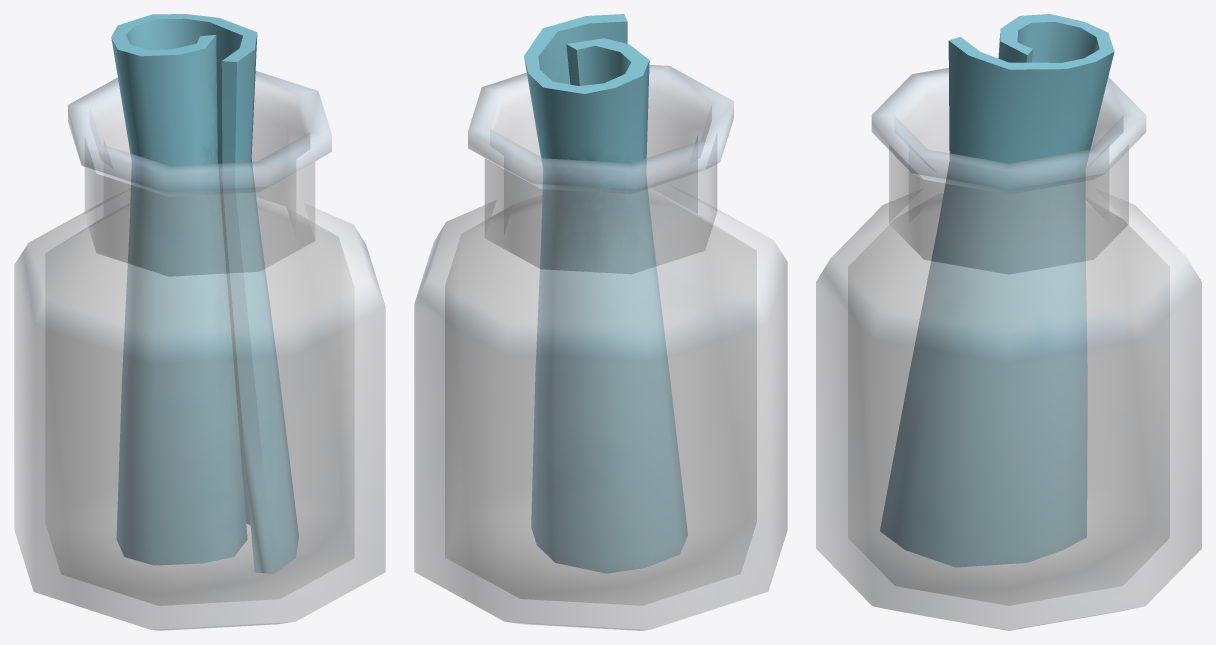
The model's file is Bottle.glb.
3 views of the same model, side by side, from view 1: azimuth 30°, elevation 25°; view 2: azimuth 150°, elevation 25°; view 3: azimuth 270°, elevation 25° (orthographic).
Visible parts, largest first — view 1: Bottle (×2); view 2: Bottle (×2); view 3: Bottle (×2).
Boxes of the visible parts, x1,y1,x2,y2 form: Bottle (×2): (14, 14, 385, 630); Bottle (×2): (414, 14, 787, 630); Bottle (×2): (816, 14, 1201, 630).
Size of the model in its own units: 2 by 3.02 by 2.
2 materials, 2 textured.
